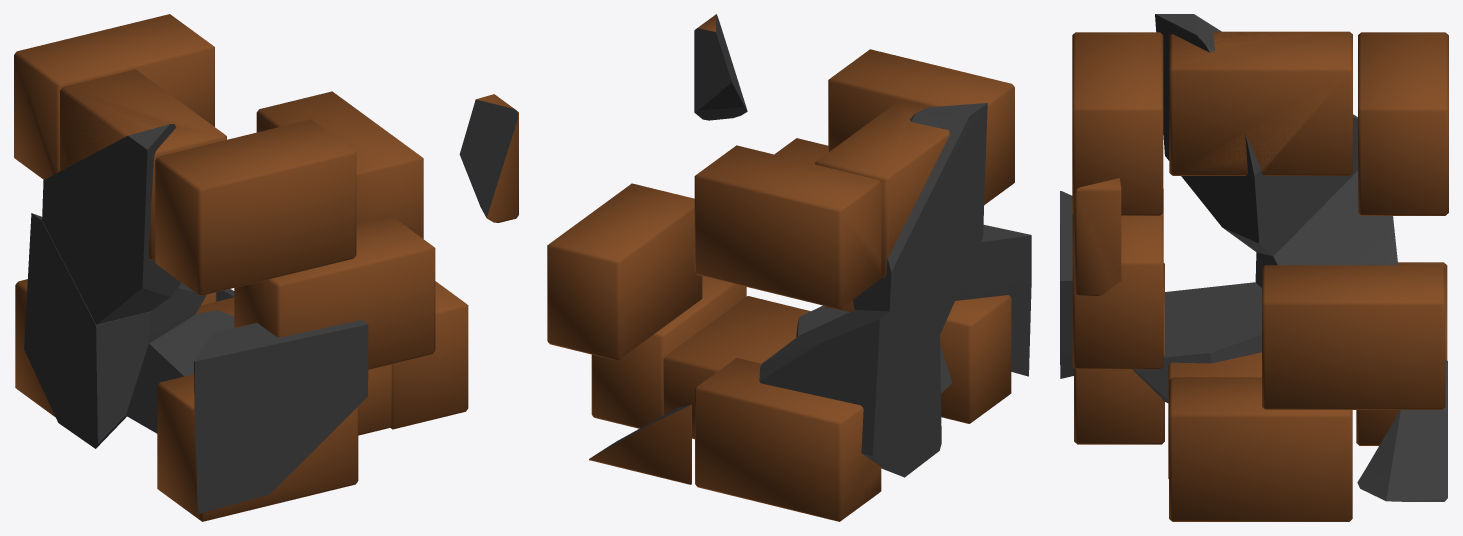
File: Block2.obj_Fragment.fbx
The picture shows the model from 3 angles, left to right: view 1: azimuth 30°, elevation 25°; view 2: azimuth 150°, elevation 25°; view 3: azimuth 270°, elevation 25°; orthographic projection. The views are drawn at different scales.
Parts seen in each view (by area): view 1: Cube.002_cell.028, Cube.002_cell.031, Cube.002_cell.003, Cube.002_cell.020, Cube.002_cell.036, Cube.002_cell.011, Cube.002_cell.022, Cube.002_cell.013, Cube.002_cell.012, Cube.002_cell.008, Cube.002_cell.007, Cube.002_cell.034 (+2 smaller); view 2: Cube.002_cell.020, Cube.002_cell.011, Cube.002_cell.003, Cube.002_cell.022, Cube.002_cell.028, Cube.002_cell.031, Cube.002_cell.034, Cube.002_cell.012, Cube.002_cell.013, Cube.002_cell.030, Cube.002_cell.007, Cube.002_cell.009 (+3 smaller); view 3: Cube.002_cell.003, Cube.002_cell.022, Cube.002_cell.012, Cube.002_cell.011, Cube.002_cell.031, Cube.002_cell.034, Cube.002_cell.036, Cube.002_cell.013, Cube.002_cell.028, Cube.002_cell.020, Cube.002_cell.009, Cube.002_cell.007 (+1 smaller).
Boxes of the visible parts, left/top/right/bottom form: Cube.002_cell.028: left=157, top=320, right=368, bottom=521; Cube.002_cell.031: left=155, top=119, right=356, bottom=295; Cube.002_cell.003: left=42, top=69, right=226, bottom=324; Cube.002_cell.020: left=15, top=213, right=216, bottom=448; Cube.002_cell.036: left=234, top=215, right=435, bottom=369; Cube.002_cell.011: left=14, top=14, right=214, bottom=179; Cube.002_cell.022: left=256, top=91, right=423, bottom=238; Cube.002_cell.013: left=126, top=297, right=391, bottom=435; Cube.002_cell.012: left=390, top=281, right=468, bottom=429; Cube.002_cell.008: left=459, top=94, right=518, bottom=222; Cube.002_cell.007: left=60, top=69, right=225, bottom=259; Cube.002_cell.034: left=256, top=92, right=423, bottom=215; Cube.002_cell.020: left=695, top=310, right=941, bottom=521; Cube.002_cell.011: left=694, top=145, right=881, bottom=309; Cube.002_cell.003: left=815, top=100, right=987, bottom=334; Cube.002_cell.022: left=547, top=183, right=702, bottom=360; Cube.002_cell.028: left=825, top=225, right=1031, bottom=423; Cube.002_cell.031: left=828, top=49, right=1014, bottom=204; Cube.002_cell.034: left=547, top=184, right=702, bottom=357; Cube.002_cell.012: left=591, top=276, right=746, bottom=428; Cube.002_cell.013: left=663, top=296, right=952, bottom=439; Cube.002_cell.030: left=664, top=296, right=810, bottom=437; Cube.002_cell.007: left=818, top=100, right=949, bottom=256; Cube.002_cell.009: left=589, top=404, right=691, bottom=484; Cube.002_cell.003: left=1155, top=14, right=1357, bottom=255; Cube.002_cell.022: left=1262, top=265, right=1445, bottom=409; Cube.002_cell.012: left=1169, top=377, right=1352, bottom=521; Cube.002_cell.011: left=1358, top=32, right=1448, bottom=215; Cube.002_cell.031: left=1072, top=32, right=1163, bottom=215; Cube.002_cell.034: left=1262, top=265, right=1445, bottom=408; Cube.002_cell.036: left=1072, top=189, right=1163, bottom=369; Cube.002_cell.013: left=1132, top=282, right=1261, bottom=478; Cube.002_cell.028: left=1060, top=191, right=1164, bottom=444; Cube.002_cell.020: left=1255, top=170, right=1447, bottom=445; Cube.002_cell.009: left=1357, top=359, right=1447, bottom=501; Cube.002_cell.007: left=1169, top=31, right=1349, bottom=175.
Size of the model in its own units: 1.72 by 1.73 by 1.74.
